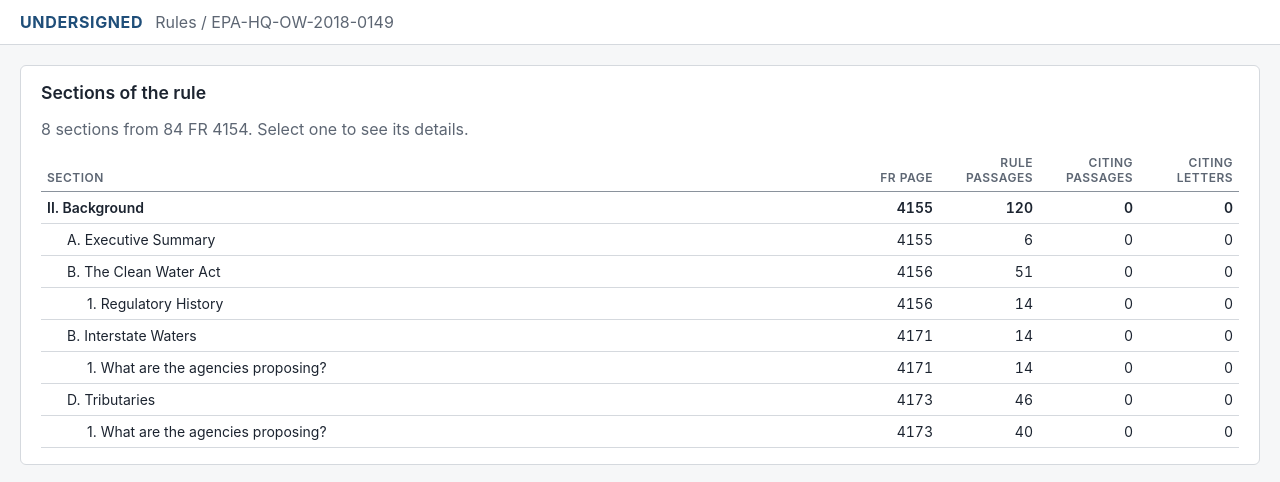
Test: says nobody cites a section when its count is zero, without asking the API
The image size is (1280, 482).
expect the table is shown: met, box [41, 155, 1239, 448]
Click the button "D. Tributaries". click: [111, 400]
box: [67, 391, 155, 408]
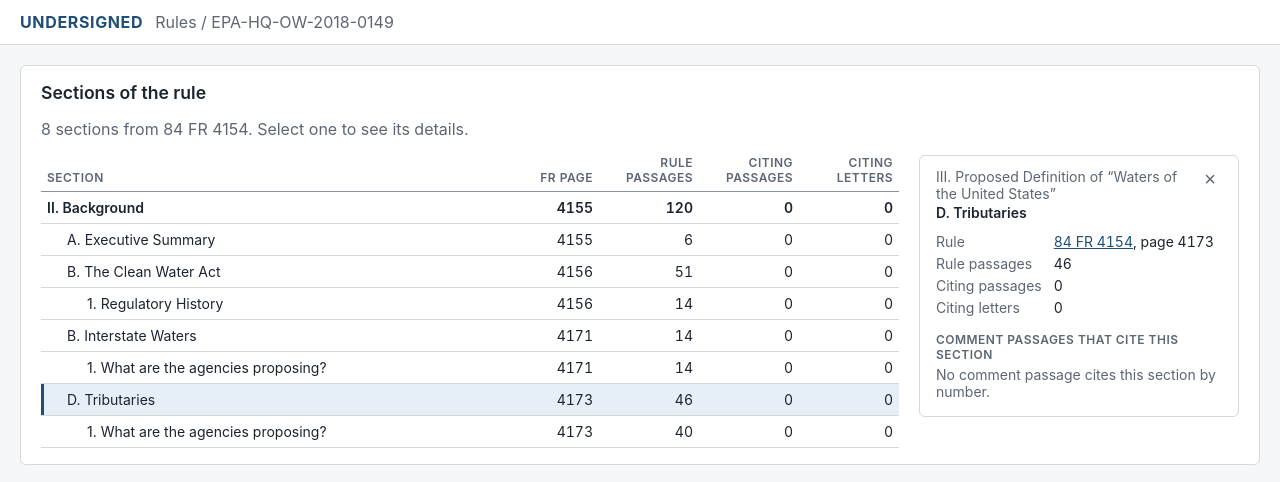
expect the text "No comment passage cites this section by number." is shown: met, box [936, 366, 1222, 400]
